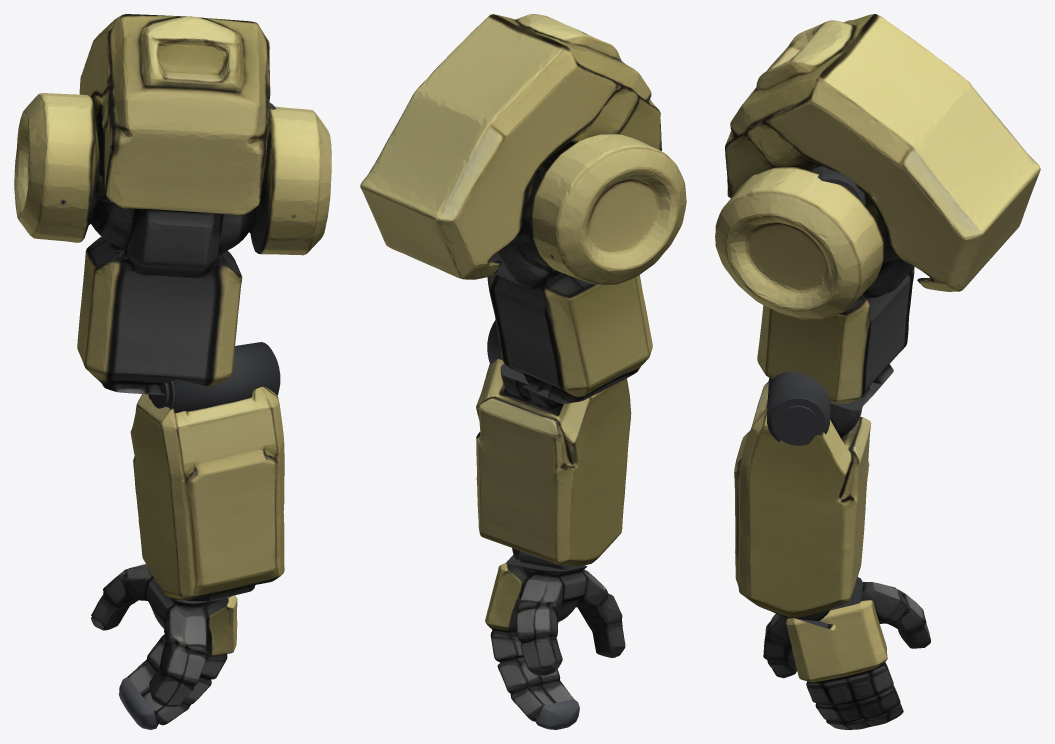
Rendered from medium_mech_arm_r.glb.
The picture shows the model from 3 angles, left to right: view 1: azimuth 30°, elevation 25°; view 2: azimuth 150°, elevation 25°; view 3: azimuth 270°, elevation 25°; orthographic projection. The views are drawn at different scales.
Parts seen in each view (by area): view 1: md_upper_arm_R, md_forearm_R, md_hand_R, md_upper_arm_R_frame, md_elbow_cyl_R, md_hand_R_frame, md_forearm_R_frame; view 2: md_upper_arm_R, md_forearm_R, md_hand_R, md_hand_R_frame, md_upper_arm_R_frame, md_forearm_R_frame; view 3: md_upper_arm_R, md_forearm_R, md_hand_R, md_elbow_cyl_R, md_hand_R_frame, md_upper_arm_R_frame, md_forearm_R_frame, md_shoulder_axle_R.
Boxes of the visible parts, x1,y1,x2,y2 form: md_upper_arm_R: (14,14,331,395); md_forearm_R: (130,386,284,601); md_hand_R: (91,564,237,729); md_upper_arm_R_frame: (81,99,271,393); md_elbow_cyl_R: (148,342,280,413); md_hand_R_frame: (91,569,229,728); md_forearm_R_frame: (174,391,279,601); md_upper_arm_R: (360,14,686,402); md_forearm_R: (476,359,631,566); md_hand_R: (485,559,622,729); md_hand_R_frame: (491,563,625,723); md_upper_arm_R_frame: (490,135,640,403); md_forearm_R_frame: (488,369,562,560); md_upper_arm_R: (715,14,1040,403); md_forearm_R: (734,381,871,630); md_hand_R: (764,577,930,729); md_elbow_cyl_R: (767,371,830,445); md_hand_R_frame: (763,582,930,729); md_upper_arm_R_frame: (728,160,931,405); md_forearm_R_frame: (743,402,860,620); md_shoulder_axle_R: (811,166,865,205).
Size of the model in its own units: 2.89 by 6.9 by 2.88.
Materials: 6 (4 with a texture image).
